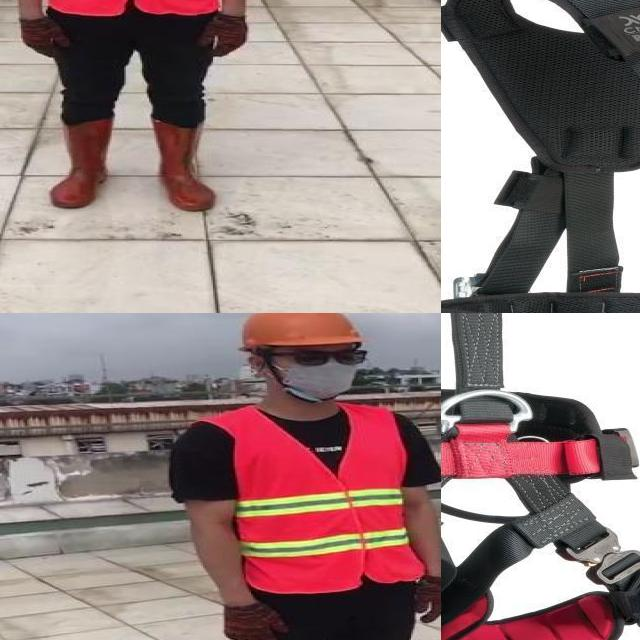Harness: (441, 313, 640, 640), (441, 0, 640, 313)
boots: (151, 118, 220, 212), (51, 117, 112, 208)
face_mask: (268, 341, 366, 402)
glasses: (278, 344, 376, 370)
hand_glove: (218, 604, 288, 640), (14, 15, 69, 59), (200, 14, 248, 58), (416, 577, 441, 626)
head_helmet: (234, 313, 365, 354)
person: (158, 313, 441, 640), (0, 0, 274, 219)
vest: (223, 404, 422, 592)
